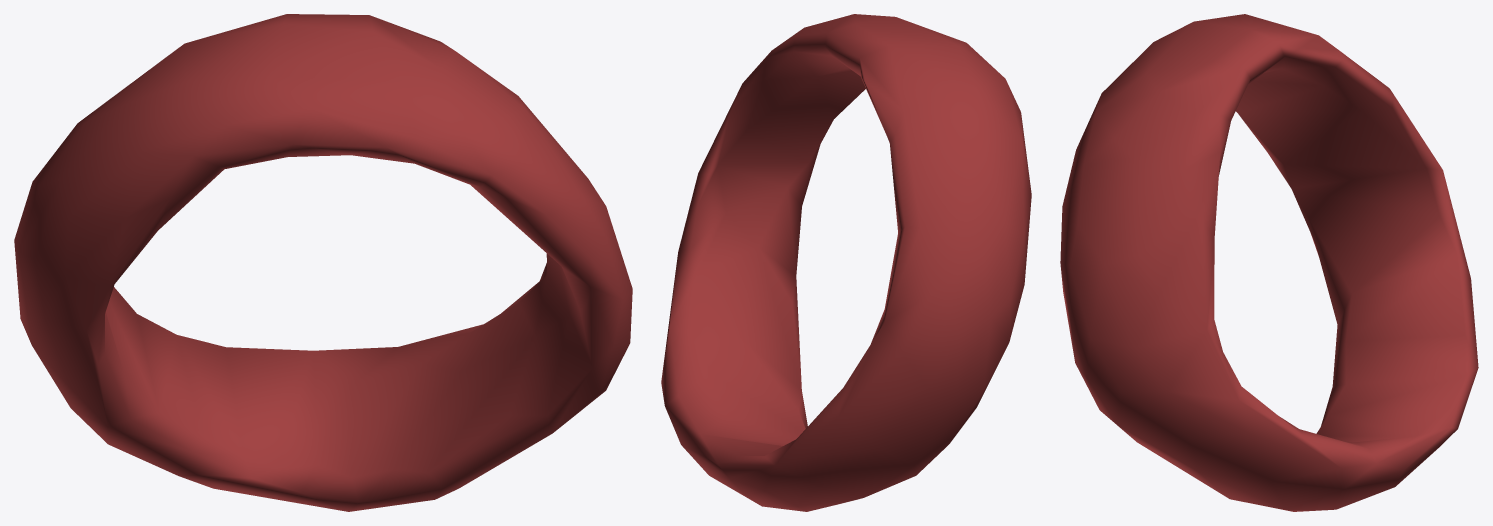
File: common-tendinous-ring-r.glb
3 renders of one model, left to right at view 1: azimuth 30°, elevation 25°; view 2: azimuth 150°, elevation 25°; view 3: azimuth 270°, elevation 25°, orthographic. The views are drawn at different scales.
Visible parts, largest first — view 1: Common tendinous ring.r; view 2: Common tendinous ring.r; view 3: Common tendinous ring.r.
Boxes of the visible parts, box(x1,y1,x2,y2) form: Common tendinous ring.r: box(14, 14, 632, 511); Common tendinous ring.r: box(661, 14, 1031, 511); Common tendinous ring.r: box(1060, 14, 1478, 511).
Bounding box in the file's own units: 0.00626 × 0.0067 × 0.00584.
